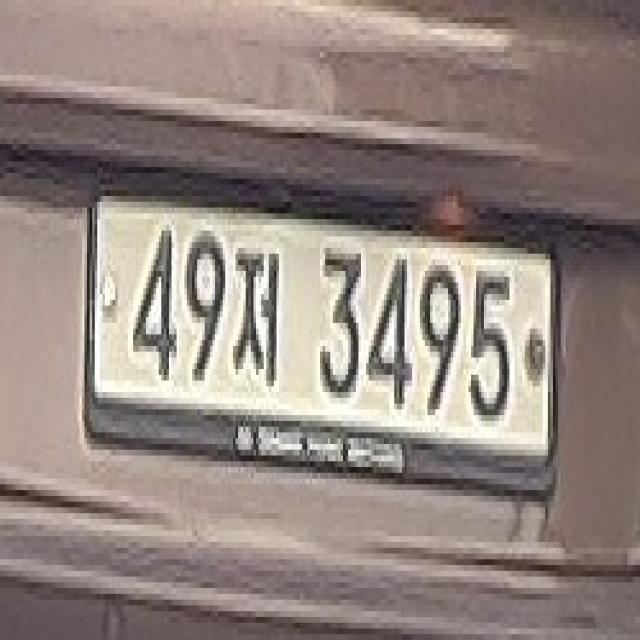3: (318, 238, 362, 408)
4: (132, 220, 180, 392), (367, 243, 415, 414)
5: (468, 270, 512, 422)
9: (183, 223, 228, 394), (420, 258, 462, 421)
jeo: (234, 232, 288, 400)
license_plate: (79, 198, 561, 492)
